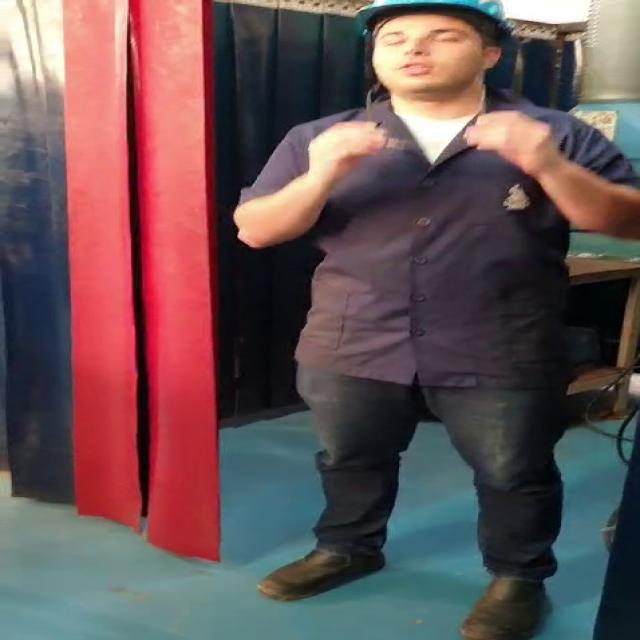sem_oculos: (360, 25, 493, 56)
